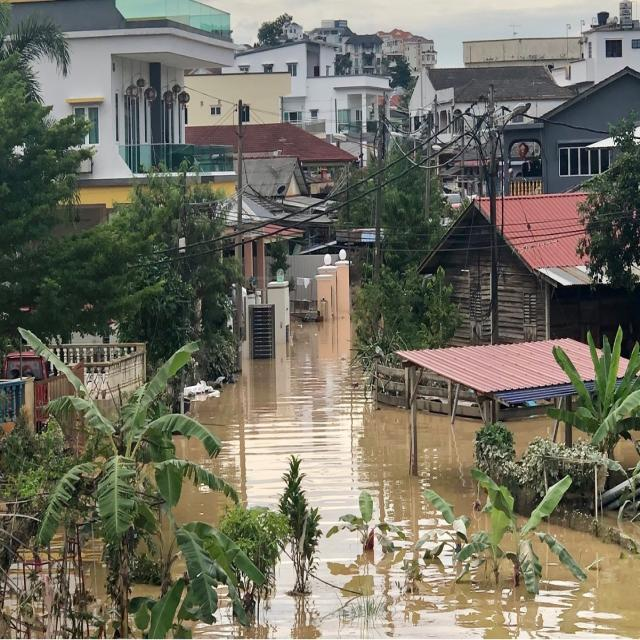flood: (195, 321, 482, 534), (312, 526, 640, 640), (194, 561, 324, 640), (173, 478, 231, 528), (505, 417, 565, 462), (173, 435, 213, 472), (612, 431, 640, 469), (83, 561, 104, 601)
house: (0, 0, 229, 178), (426, 193, 590, 340), (537, 64, 640, 190), (186, 118, 360, 171), (408, 64, 564, 120), (236, 40, 312, 101), (308, 26, 376, 81), (578, 5, 640, 60), (239, 154, 311, 201), (382, 26, 439, 70)
